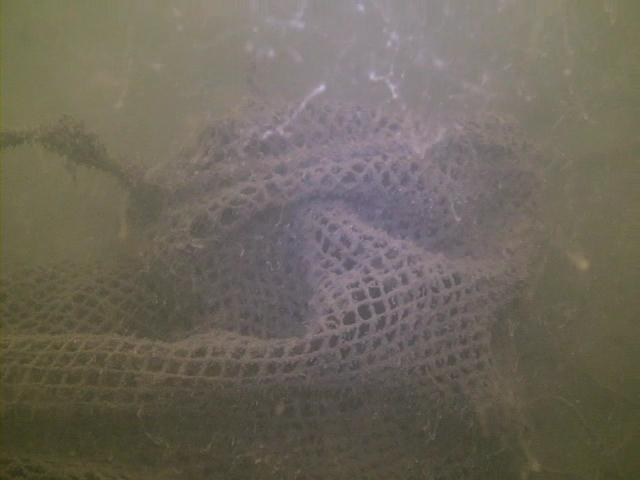fish net: (0, 100, 507, 480)
